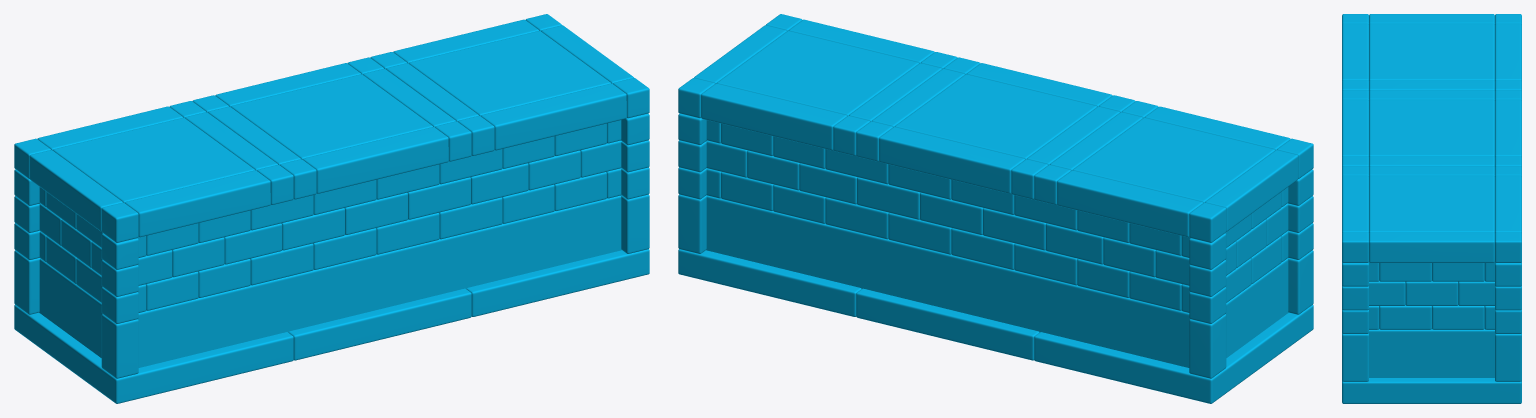
The model's file is SM_Brick_Body_05.fbx.
3 renders of one model, left to right at view 1: azimuth 30°, elevation 25°; view 2: azimuth 150°, elevation 25°; view 3: azimuth 270°, elevation 25°, orthographic. The views are drawn at different scales.
Parts seen in each view (by area): view 1: SM_Brick_Body_05; view 2: SM_Brick_Body_05; view 3: SM_Brick_Body_05.
Part boxes in pixels (x1,y1,x2,y2): SM_Brick_Body_05: (14, 14, 649, 403); SM_Brick_Body_05: (678, 14, 1313, 403); SM_Brick_Body_05: (1342, 14, 1521, 403).
Size of the model in its own units: 7.5 by 2.5 by 2.5.
